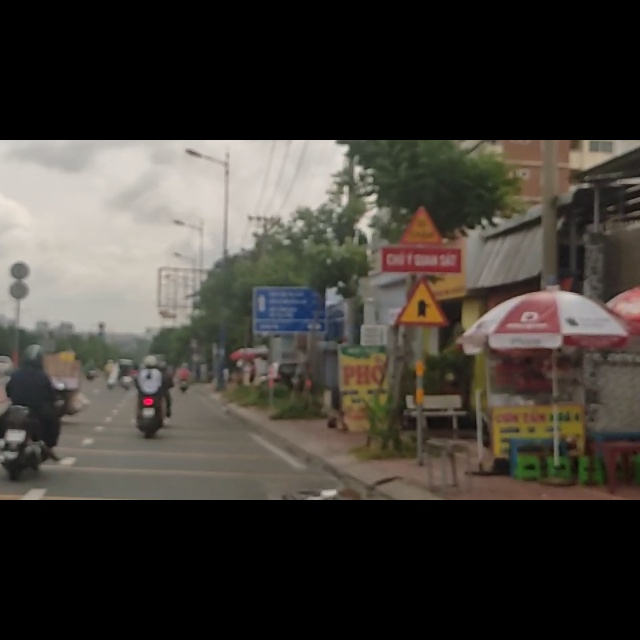bien_hieu_lenh: (393, 247, 446, 327)
